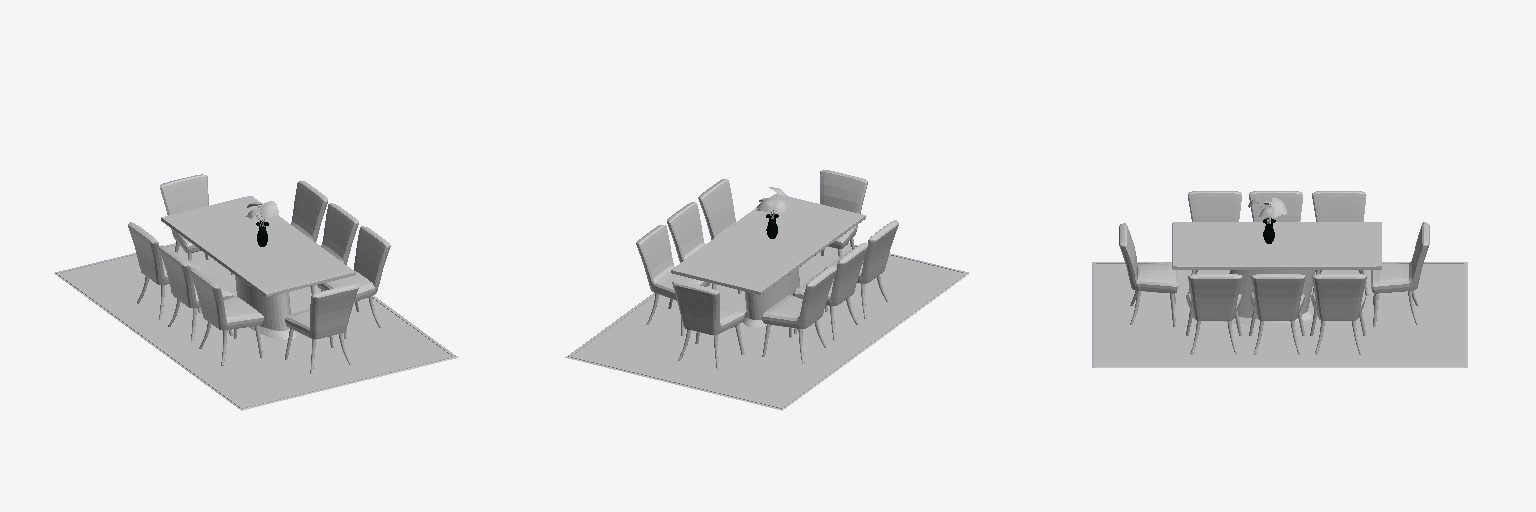
File: table.obj
The picture shows the model from 3 angles: view 1: azimuth 30°, elevation 25°; view 2: azimuth 150°, elevation 25°; view 3: azimuth 270°, elevation 25°; orthographic projection.
Visible parts, largest first — view 1: Plane.001, mesajantar_Plane.007, cadeirajantar_Circle.017, cadeirajantar.006_Circle.010, cadeirajantar.001_Circle.001, cadeirajantar.007_Circle.012, cadeirajantar.005_Circle.009, cadeirajantar.004_Circle.008, cadeirajantar.002_Circle.002, cadeirajantar.003_Circle.003; view 2: Plane.001, mesajantar_Plane.007, cadeirajantar.007_Circle.012, cadeirajantar.004_Circle.008, cadeirajantar.003_Circle.003, cadeirajantar_Circle.017, cadeirajantar.005_Circle.009, cadeirajantar.006_Circle.010, cadeirajantar.002_Circle.002, cadeirajantar.001_Circle.001; view 3: Plane.001, mesajantar_Plane.007, cadeirajantar.001_Circle.001, cadeirajantar.002_Circle.002, cadeirajantar.003_Circle.003, cadeirajantar_Circle.017, cadeirajantar.007_Circle.012, cadeirajantar.004_Circle.008, cadeirajantar.006_Circle.010, cadeirajantar.005_Circle.009.
Boxes of the visible parts, <box> form: Plane.001: <box>54,243,458,410</box>; mesajantar_Plane.007: <box>161,196,355,339</box>; cadeirajantar_Circle.017: <box>285,284,358,373</box>; cadeirajantar.006_Circle.010: <box>190,268,263,365</box>; cadeirajantar.001_Circle.001: <box>317,226,390,338</box>; cadeirajantar.007_Circle.012: <box>160,174,233,274</box>; cadeirajantar.005_Circle.009: <box>159,245,233,342</box>; cadeirajantar.004_Circle.008: <box>128,222,201,319</box>; cadeirajantar.002_Circle.002: <box>311,203,358,294</box>; cadeirajantar.003_Circle.003: <box>291,181,327,242</box>; Plane.001: <box>565,243,969,410</box>; mesajantar_Plane.007: <box>671,194,865,327</box>; cadeirajantar.007_Circle.012: <box>672,280,744,369</box>; cadeirajantar.004_Circle.008: <box>761,265,836,363</box>; cadeirajantar.003_Circle.003: <box>636,225,709,335</box>; cadeirajantar_Circle.017: <box>820,170,867,256</box>; cadeirajantar.005_Circle.009: <box>793,242,868,340</box>; cadeirajantar.006_Circle.010: <box>824,220,898,318</box>; cadeirajantar.002_Circle.002: <box>667,202,740,302</box>; cadeirajantar.001_Circle.001: <box>698,179,735,239</box>; Plane.001: <box>1092,262,1467,367</box>; mesajantar_Plane.007: <box>1172,222,1381,324</box>; cadeirajantar.001_Circle.001: <box>1186,274,1242,354</box>; cadeirajantar.002_Circle.002: <box>1249,274,1305,354</box>; cadeirajantar.003_Circle.003: <box>1310,274,1366,354</box>; cadeirajantar_Circle.017: <box>1119,223,1177,326</box>; cadeirajantar.007_Circle.012: <box>1371,222,1429,326</box>; cadeirajantar.004_Circle.008: <box>1312,191,1368,295</box>; cadeirajantar.006_Circle.010: <box>1188,191,1241,293</box>; cadeirajantar.005_Circle.009: <box>1249,191,1302,221</box>.
Size of the model in its own units: 2.23 by 1.17 by 3.34.